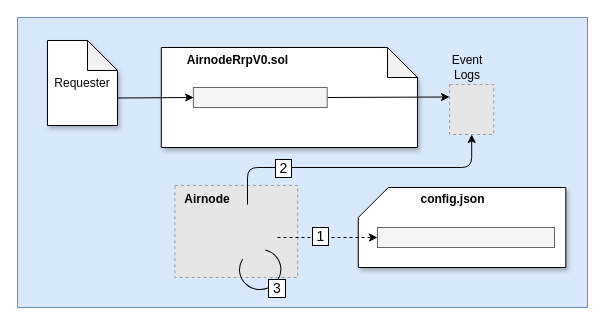
This 605x325 diagram has some shape labels left out. Grey dashed boxes stand in for pictures. The shapes that lost their labels are listed below. From the top down, each one's centre as x and y in pixels, then its label:
At [259,97]: "makeFullRequest()".
At [465,237]: "chains[n].authorizations".
